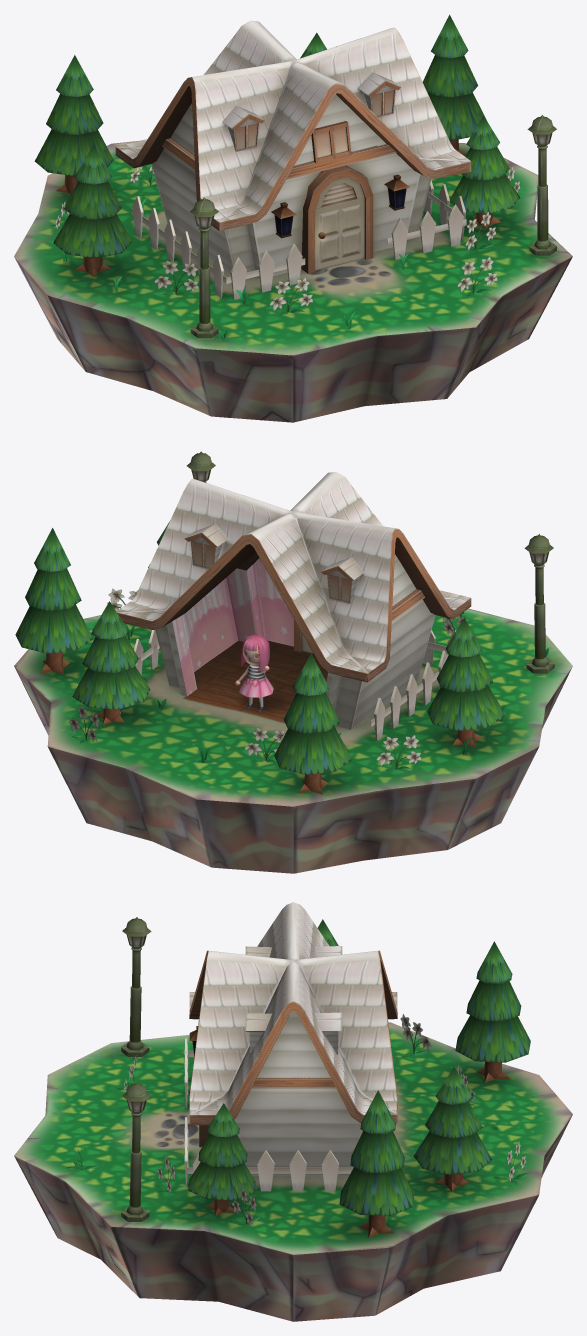
3 renders of one model, top to bottom at view 1: azimuth 30°, elevation 25°; view 2: azimuth 150°, elevation 25°; view 3: azimuth 270°, elevation 25°, orthographic.
Visible parts, largest first — view 1: ground, top_House_0, wall_House_0, door_01_House_0, fence_House_0, tree_04_Decoration_0, tree_01_Decoration_0, tree_03_Decoration_0, tree_05_Decoration_0, lantern_01, lantern_02, window_House_0 (+8 smaller); view 2: ground, top_House_0, wall_House_0, tree_03_Decoration_0, tree_01_Decoration_0, tree_04_Decoration_0, tree_02_Decoration_0, fence_House_0, lantern_01, Character, roofwindow_04_House_0, roofwindow_03_House_0 (+3 smaller); view 3: ground, top_House_0, wall_House_0, tree_03_Decoration_0, tree_01_Decoration_0, tree_02_Decoration_0, tree_05_Decoration_0, fence_House_0, lantern_01, lantern_02, roofwindow_03_House_0, roofwindow_02_House_0 (+1 smaller).
Part boxes in pixels (bbox=[...]): ground: bbox=[14, 140, 572, 422]; top_House_0: bbox=[115, 20, 471, 231]; wall_House_0: bbox=[151, 94, 431, 276]; door_01_House_0: bbox=[301, 165, 373, 273]; fence_House_0: bbox=[131, 180, 466, 299]; tree_04_Decoration_0: bbox=[53, 145, 132, 277]; tree_01_Decoration_0: bbox=[34, 55, 113, 194]; tree_03_Decoration_0: bbox=[422, 14, 487, 156]; tree_05_Decoration_0: bbox=[449, 115, 519, 229]; lantern_01: bbox=[190, 197, 218, 338]; lantern_02: bbox=[527, 115, 556, 255]; window_House_0: bbox=[311, 121, 351, 163]; ground: bbox=[14, 608, 572, 873]; top_House_0: bbox=[116, 472, 471, 682]; wall_House_0: bbox=[155, 554, 435, 729]; tree_03_Decoration_0: bbox=[15, 528, 92, 674]; tree_01_Decoration_0: bbox=[274, 653, 351, 794]; tree_04_Decoration_0: bbox=[427, 617, 504, 747]; tree_02_Decoration_0: bbox=[72, 601, 150, 725]; fence_House_0: bbox=[134, 630, 456, 740]; lantern_01: bbox=[524, 534, 554, 673]; Character: bbox=[235, 634, 273, 712]; roofwindow_04_House_0: bbox=[321, 557, 363, 603]; roofwindow_03_House_0: bbox=[184, 523, 227, 568]; ground: bbox=[14, 1022, 572, 1321]; top_House_0: bbox=[189, 902, 397, 1125]; wall_House_0: bbox=[234, 1010, 362, 1175]; tree_03_Decoration_0: bbox=[339, 1090, 414, 1237]; tree_01_Decoration_0: bbox=[455, 941, 530, 1082]; tree_02_Decoration_0: bbox=[413, 1067, 492, 1191]; tree_05_Decoration_0: bbox=[188, 1103, 255, 1216]; fence_House_0: bbox=[184, 1038, 353, 1191]; lantern_01: bbox=[121, 917, 151, 1056]; lantern_02: bbox=[121, 1082, 151, 1221]; roofwindow_03_House_0: bbox=[315, 1012, 342, 1054]; roofwindow_02_House_0: bbox=[245, 1013, 271, 1053].
Size of the model in its own units: 600 by 315 by 591.
3 materials, 3 textured.
